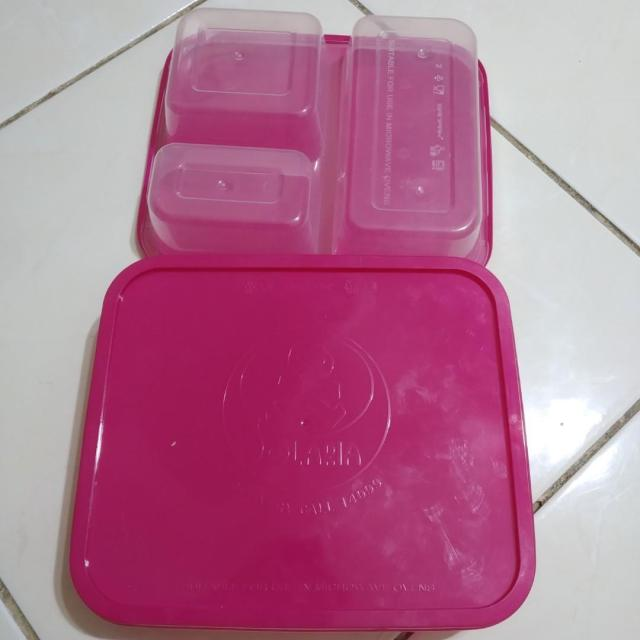Anorganik: (75, 4, 544, 640)
